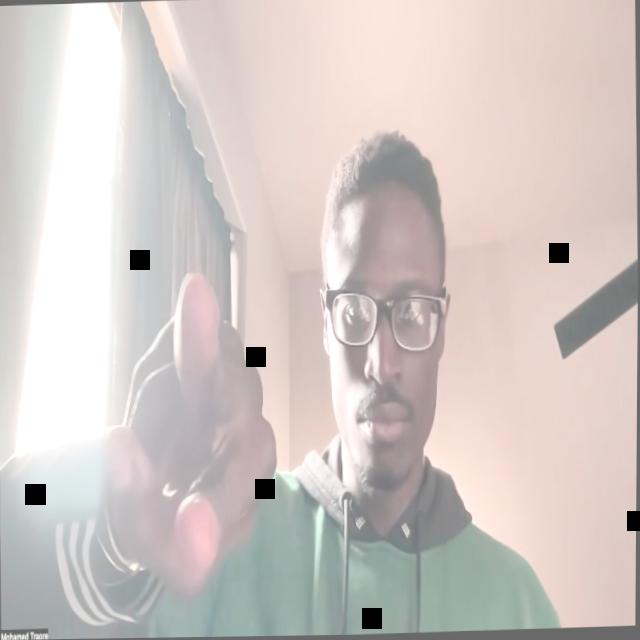Scissors: (110, 268, 282, 587)
